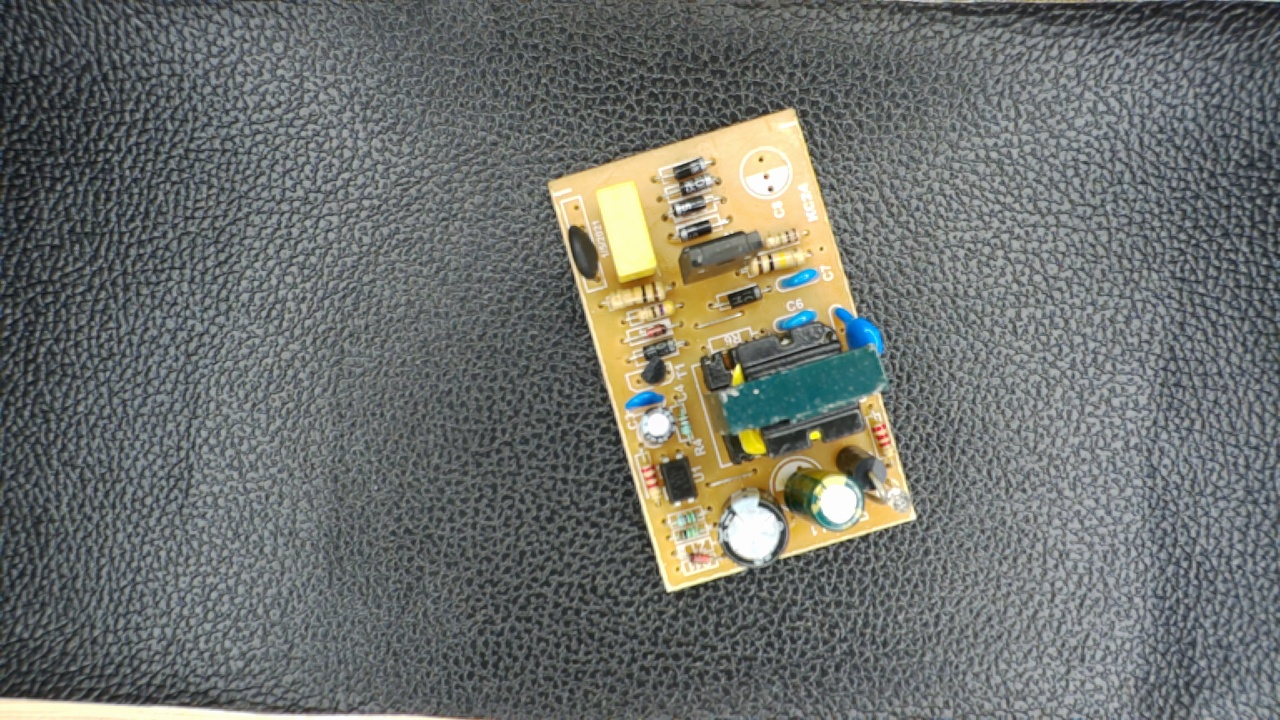fuse: (563, 215, 606, 288)
mov: (828, 300, 891, 371)
optocoupler: (653, 446, 701, 510)
